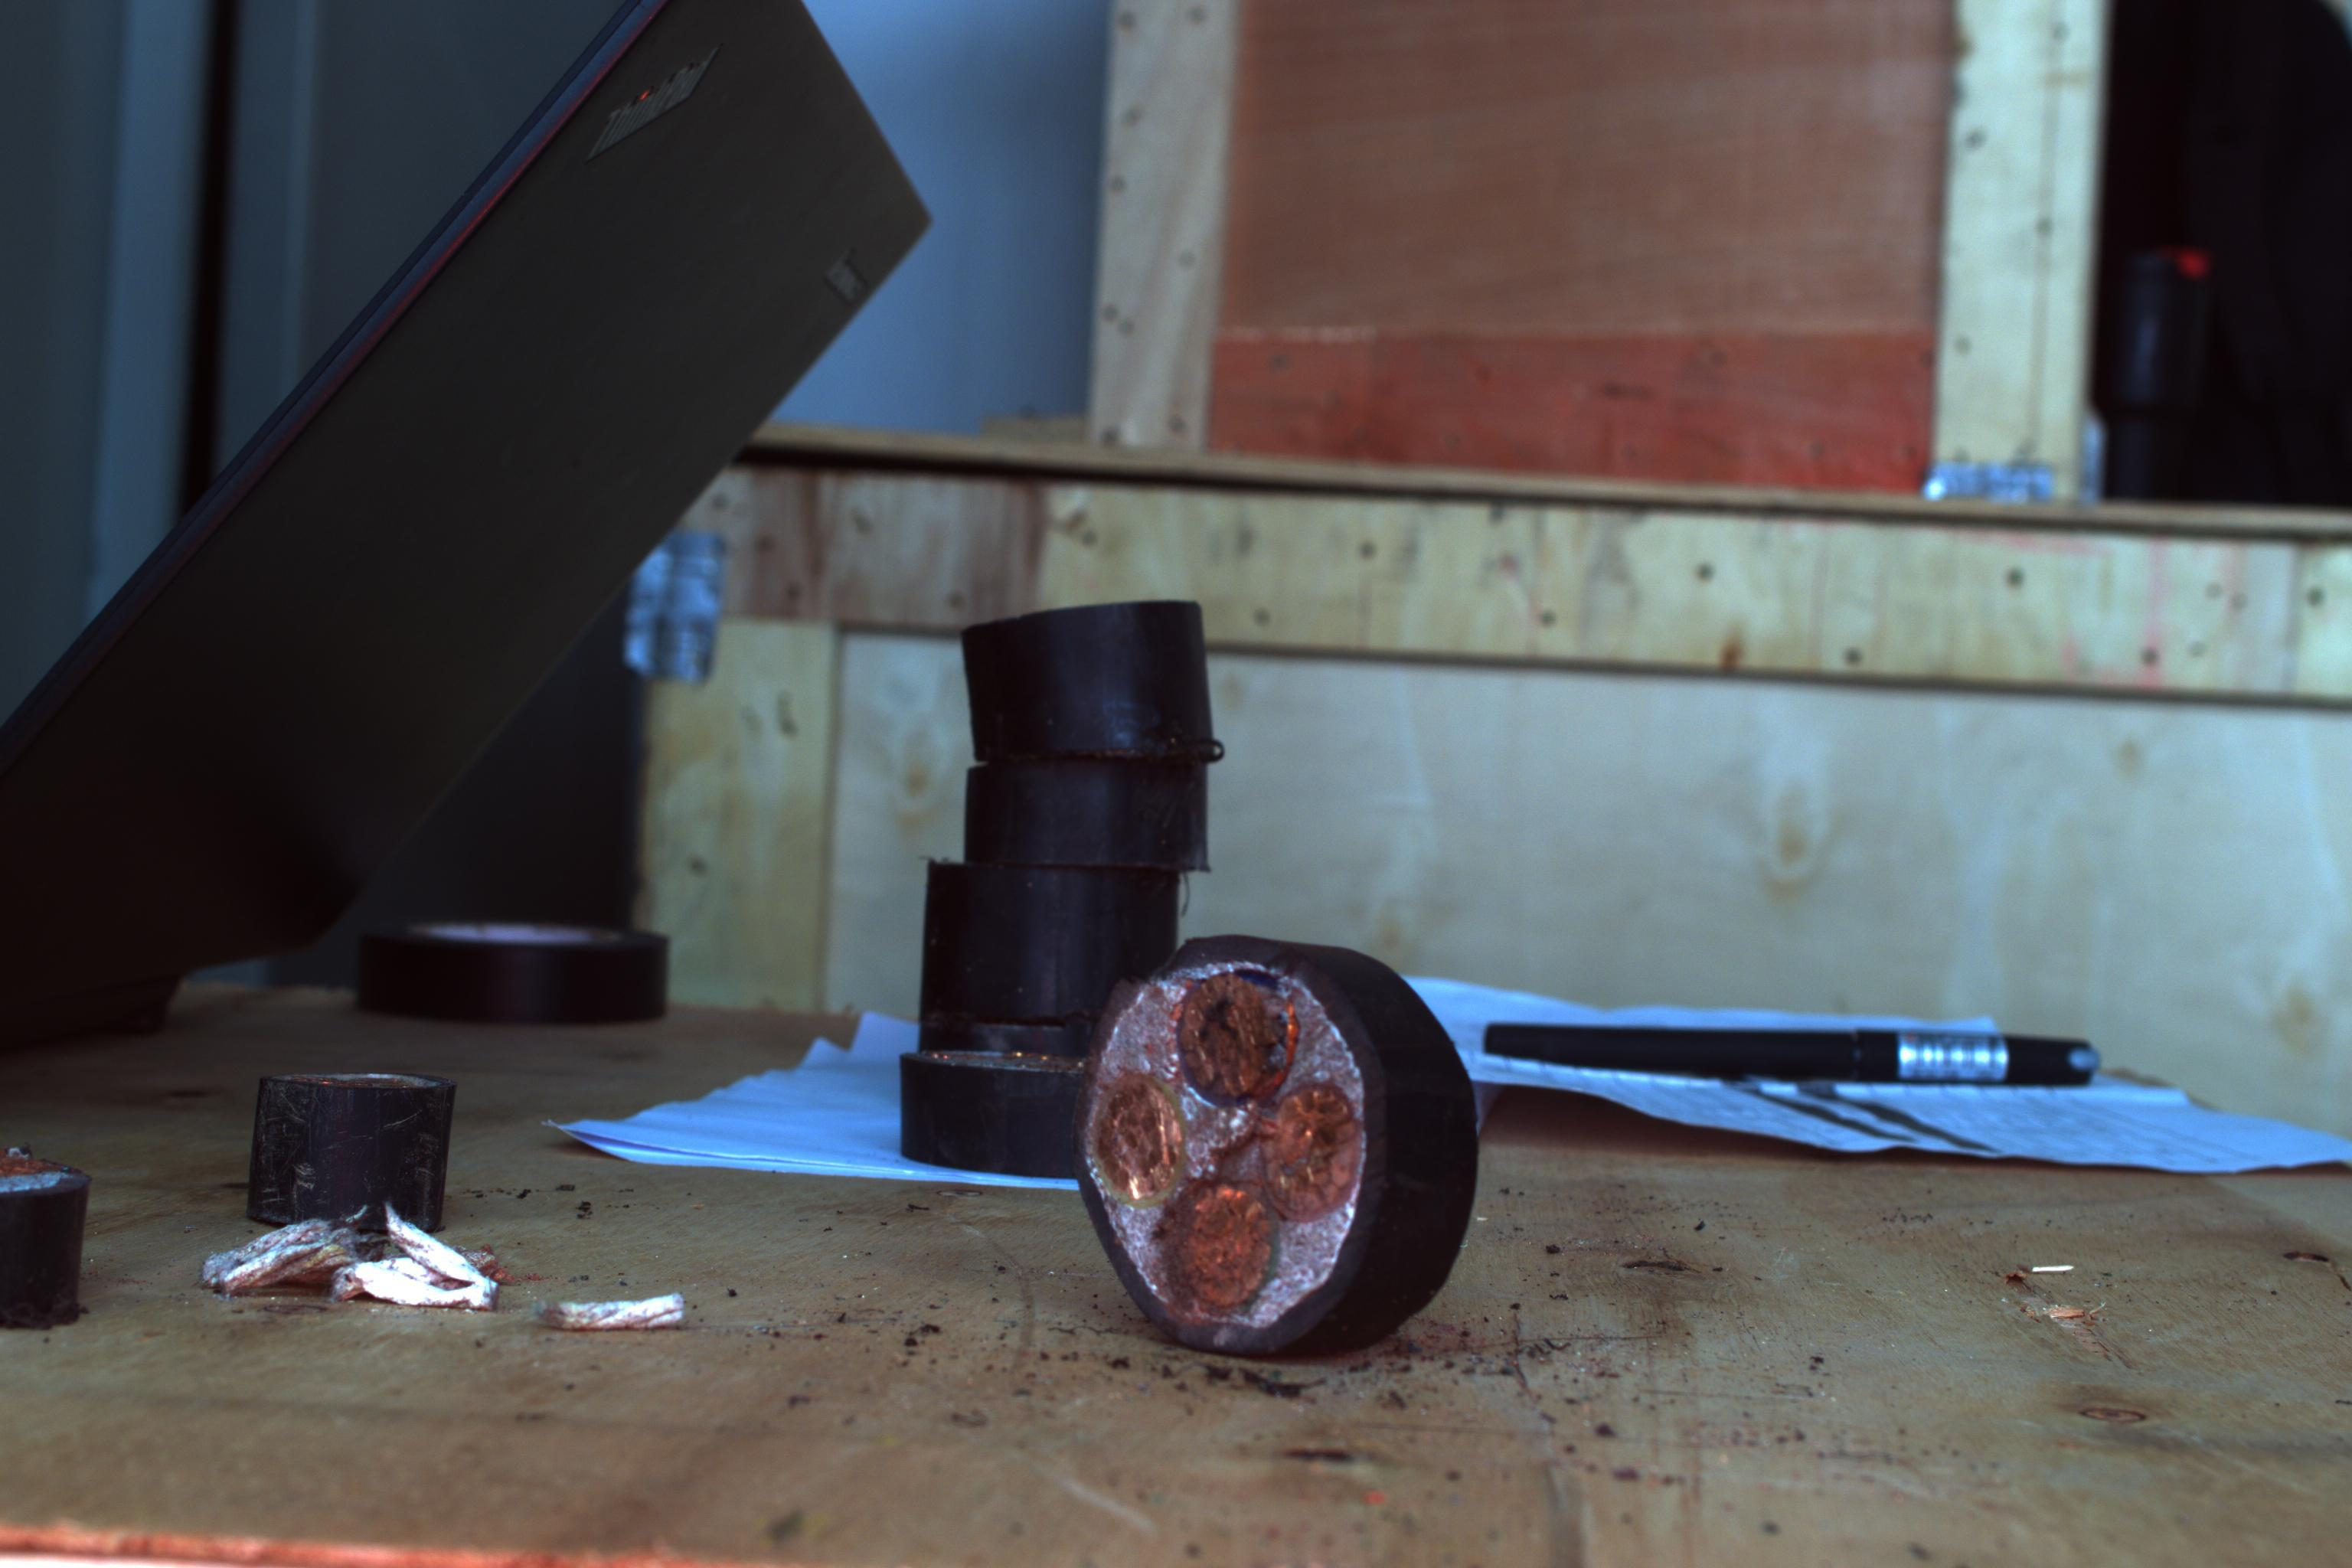YJV_0.6_1kV_4x120: (1085, 938, 1393, 1342)
